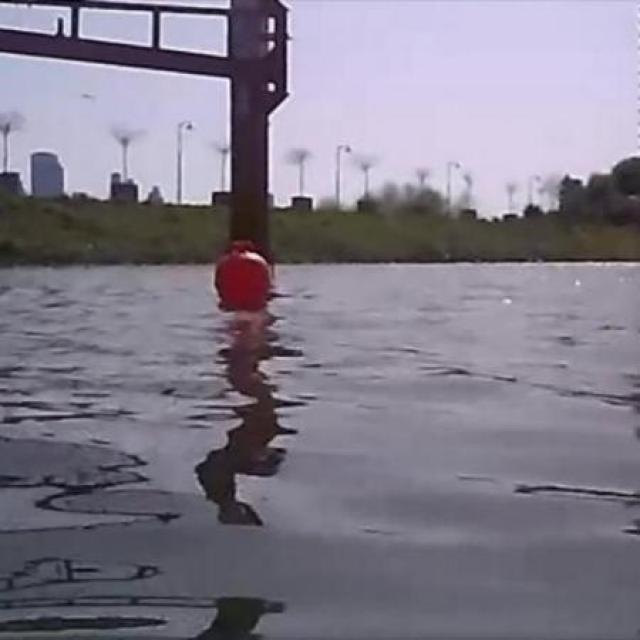buoy: (210, 239, 274, 306)
